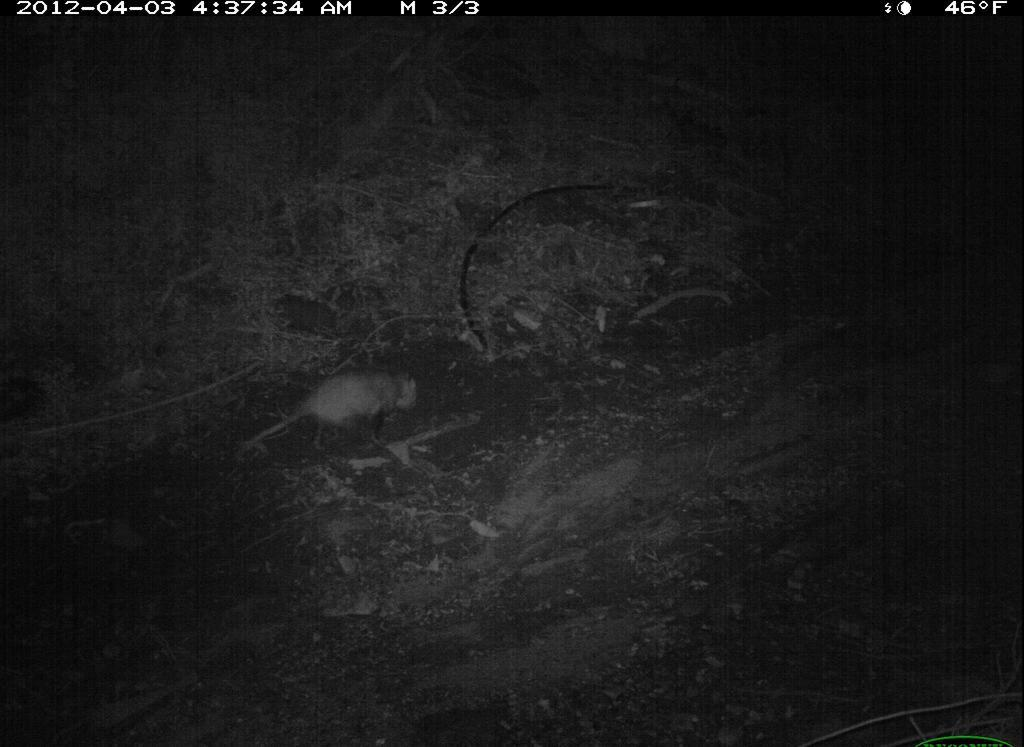opossum: (233, 361, 427, 477)
